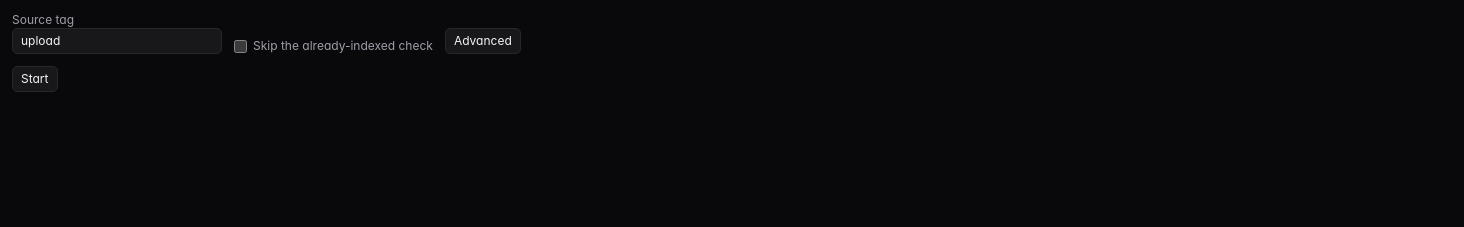
it: IngestRunPanel › d72cc63: shows the served secondary-detector failures on ingested files
The width and height of the screenshot is (1464, 227).
Click the button "Start". click: (35, 79)
box: left=12, top=66, right=58, bottom=92
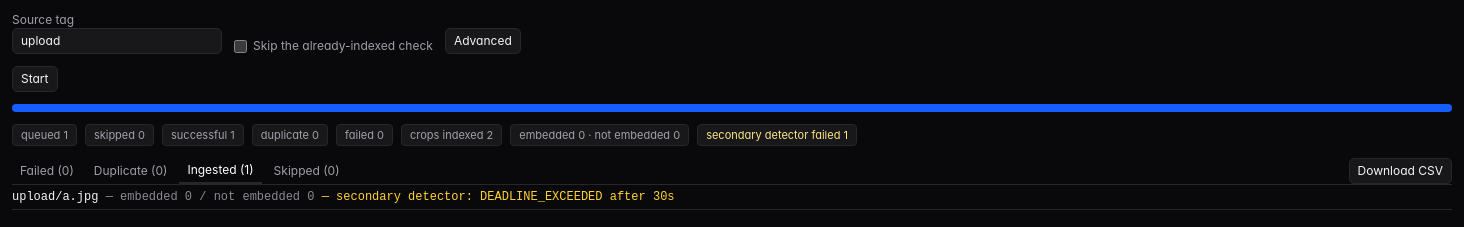
Check: the text with test id "ingest-secondary-failures" reads "secondary detector failed 1", box left=706, top=128, right=848, bottom=142
Check: the text "secondary detector: DEADLINE_EXCEEDED after 30s" is shown, box left=322, top=190, right=675, bottom=204
